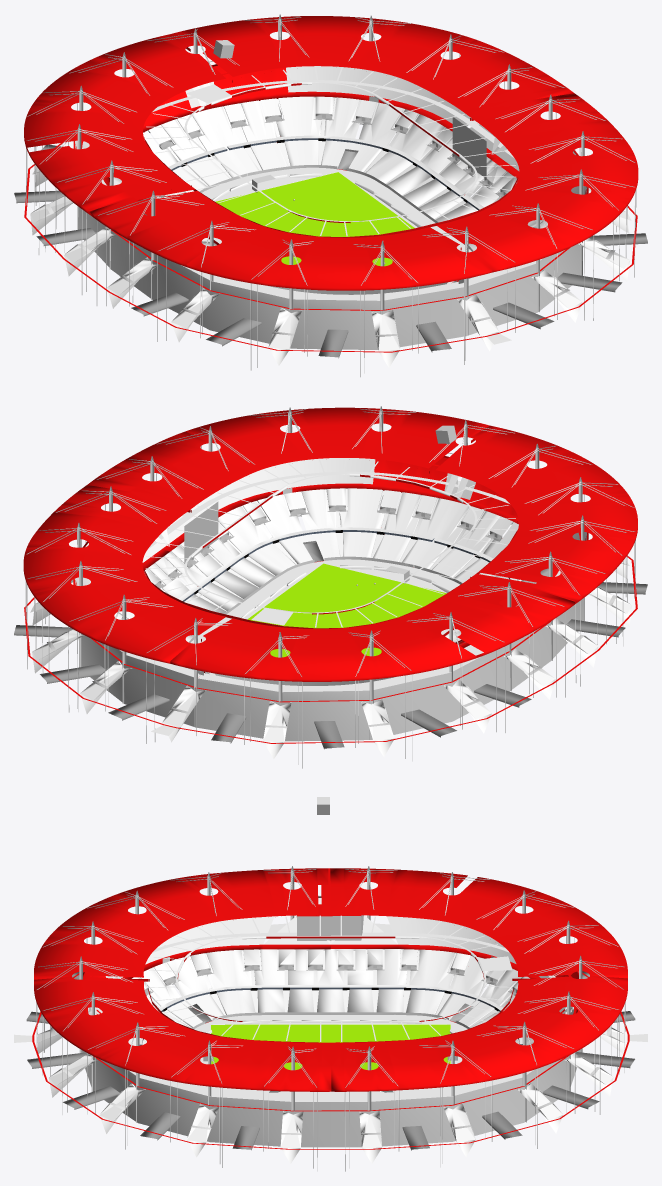
Rendered from Stade4.glb.
The picture shows the model from 3 angles, top to bottom: view 1: azimuth 30°, elevation 25°; view 2: azimuth 150°, elevation 25°; view 3: azimuth 270°, elevation 25°; orthographic projection. The views are drawn at different scales.
Visible parts, largest first — view 1: STADE.1-_1, Plane; view 2: STADE.1-_1, Plane; view 3: STADE.1-_1.
Boxes of the visible parts, x1,y1,x2,y2 form: STADE.1-_1: [14, 14, 647, 377]; Plane: [452, 117, 486, 178]; STADE.1-_1: [14, 406, 647, 768]; Plane: [184, 501, 218, 563]; STADE.1-_1: [14, 866, 647, 1171].
Bounding box in the file's own units: 2.83 × 1.27 × 3.37.
